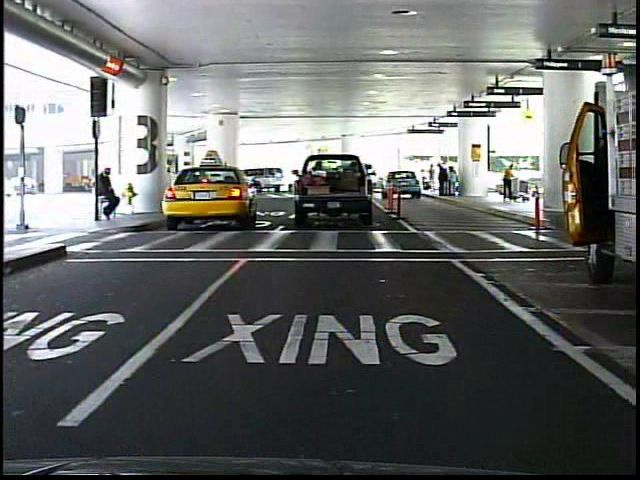person: (97, 162, 125, 226), (498, 159, 519, 207)
